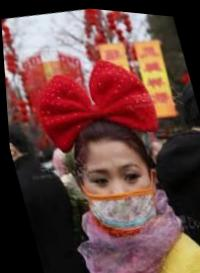WRONG: (78, 152, 162, 238)
